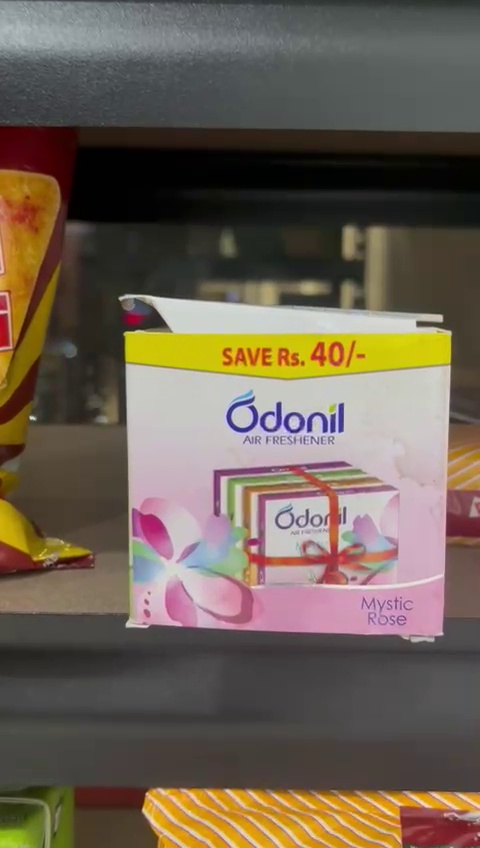Odonil: (111, 290, 450, 641)
